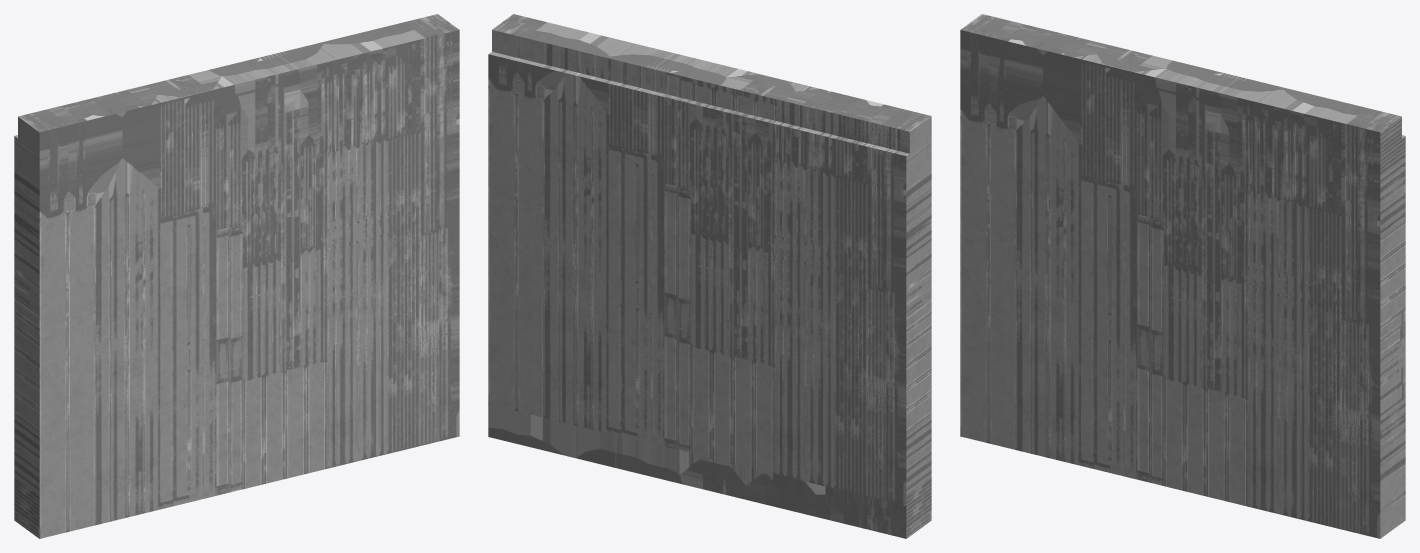
The model's file is SM_Building03_WallRoof02R.fbx.
3 views of the same model, side by side, from view 1: azimuth 30°, elevation 25°; view 2: azimuth 150°, elevation 25°; view 3: azimuth 330°, elevation 25° (orthographic).
Parts seen in each view (by area): view 1: SM_Building03_WallRoof02R_LOD0; view 2: SM_Building03_WallRoof02R_LOD0; view 3: SM_Building03_WallRoof02R_LOD0.
Boxes of the visible parts, x1,y1,x2,y2 form: SM_Building03_WallRoof02R_LOD0: (14,14,459,538); SM_Building03_WallRoof02R_LOD0: (488,14,931,538); SM_Building03_WallRoof02R_LOD0: (960,14,1405,538).
Bounding box in the file's own units: 400 × 41.56 × 370.
